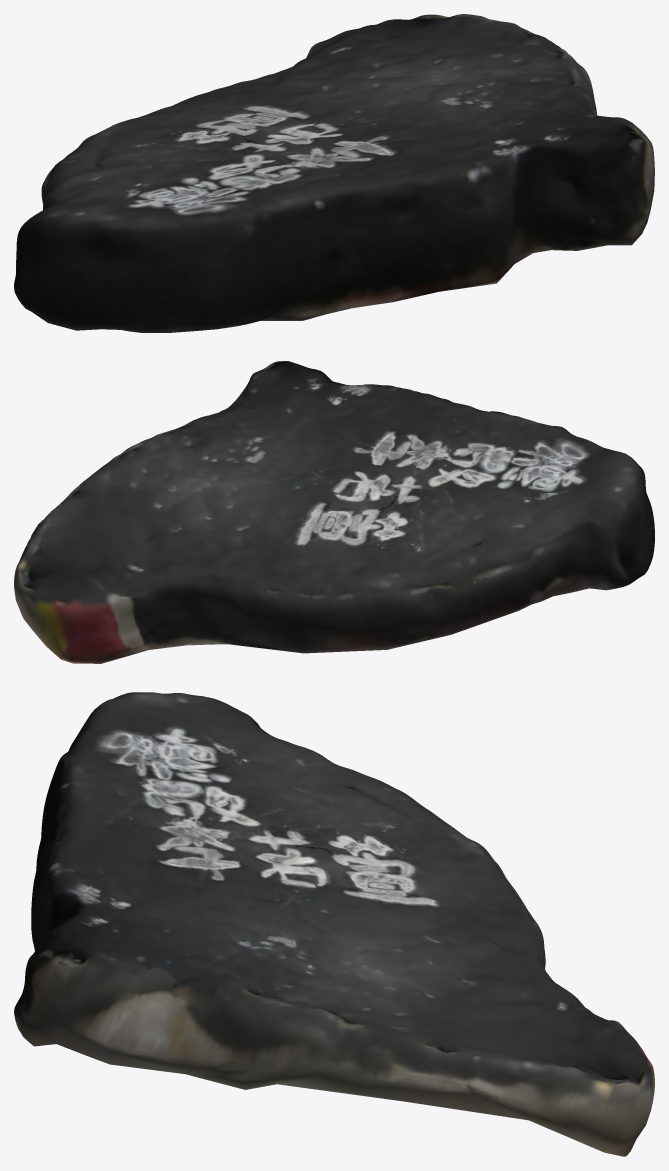
The picture shows the model from 3 angles, top to bottom: view 1: azimuth 30°, elevation 25°; view 2: azimuth 150°, elevation 25°; view 3: azimuth 270°, elevation 25°; orthographic projection. The views are drawn at different scales.
Bounding box in the file's own units: 0.7578 × 0.2313 × 0.6228.
1 material, 1 textured.
